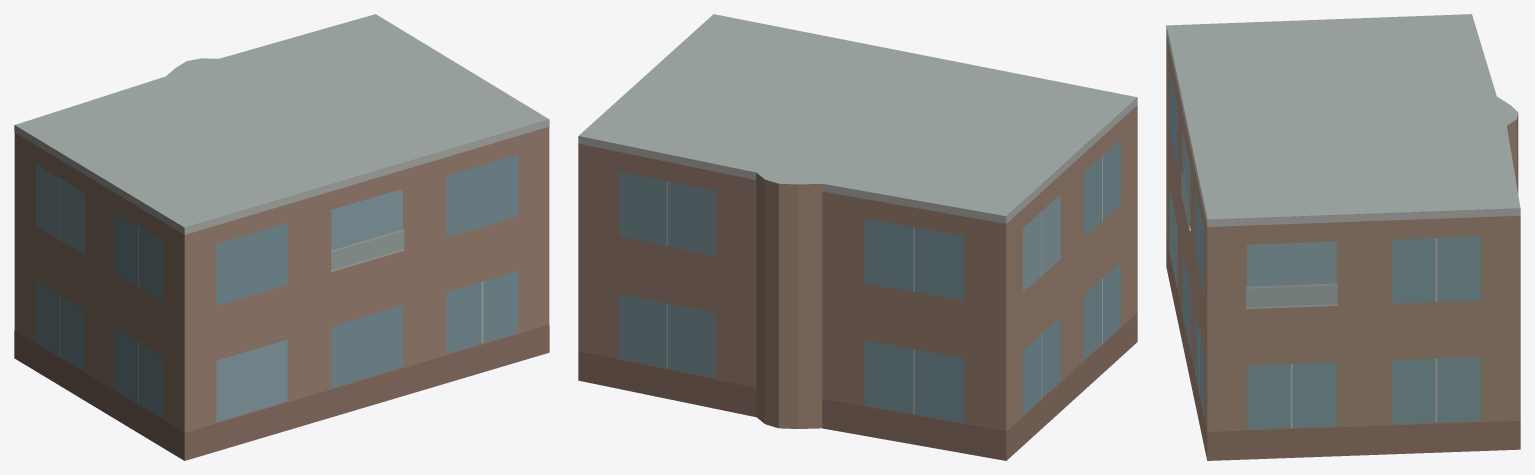
File: survey-upis-32619314.glb
The picture shows the model from 3 angles, left to right: view 1: azimuth 30°, elevation 25°; view 2: azimuth 150°, elevation 25°; view 3: azimuth 270°, elevation 25°; orthographic projection. The views are drawn at different scales.
Visible parts, largest first — view 1: survey-upis-32619314.tmp; view 2: survey-upis-32619314.tmp; view 3: survey-upis-32619314.tmp.
Part boxes in pixels (x1=…): survey-upis-32619314.tmp: x1=14, y1=14, x2=549, y2=460; survey-upis-32619314.tmp: x1=578, y1=14, x2=1137, y2=460; survey-upis-32619314.tmp: x1=1166, y1=14, x2=1520, y2=460.
Size of the model in its own units: 14.25 by 7.8 by 10.38.
